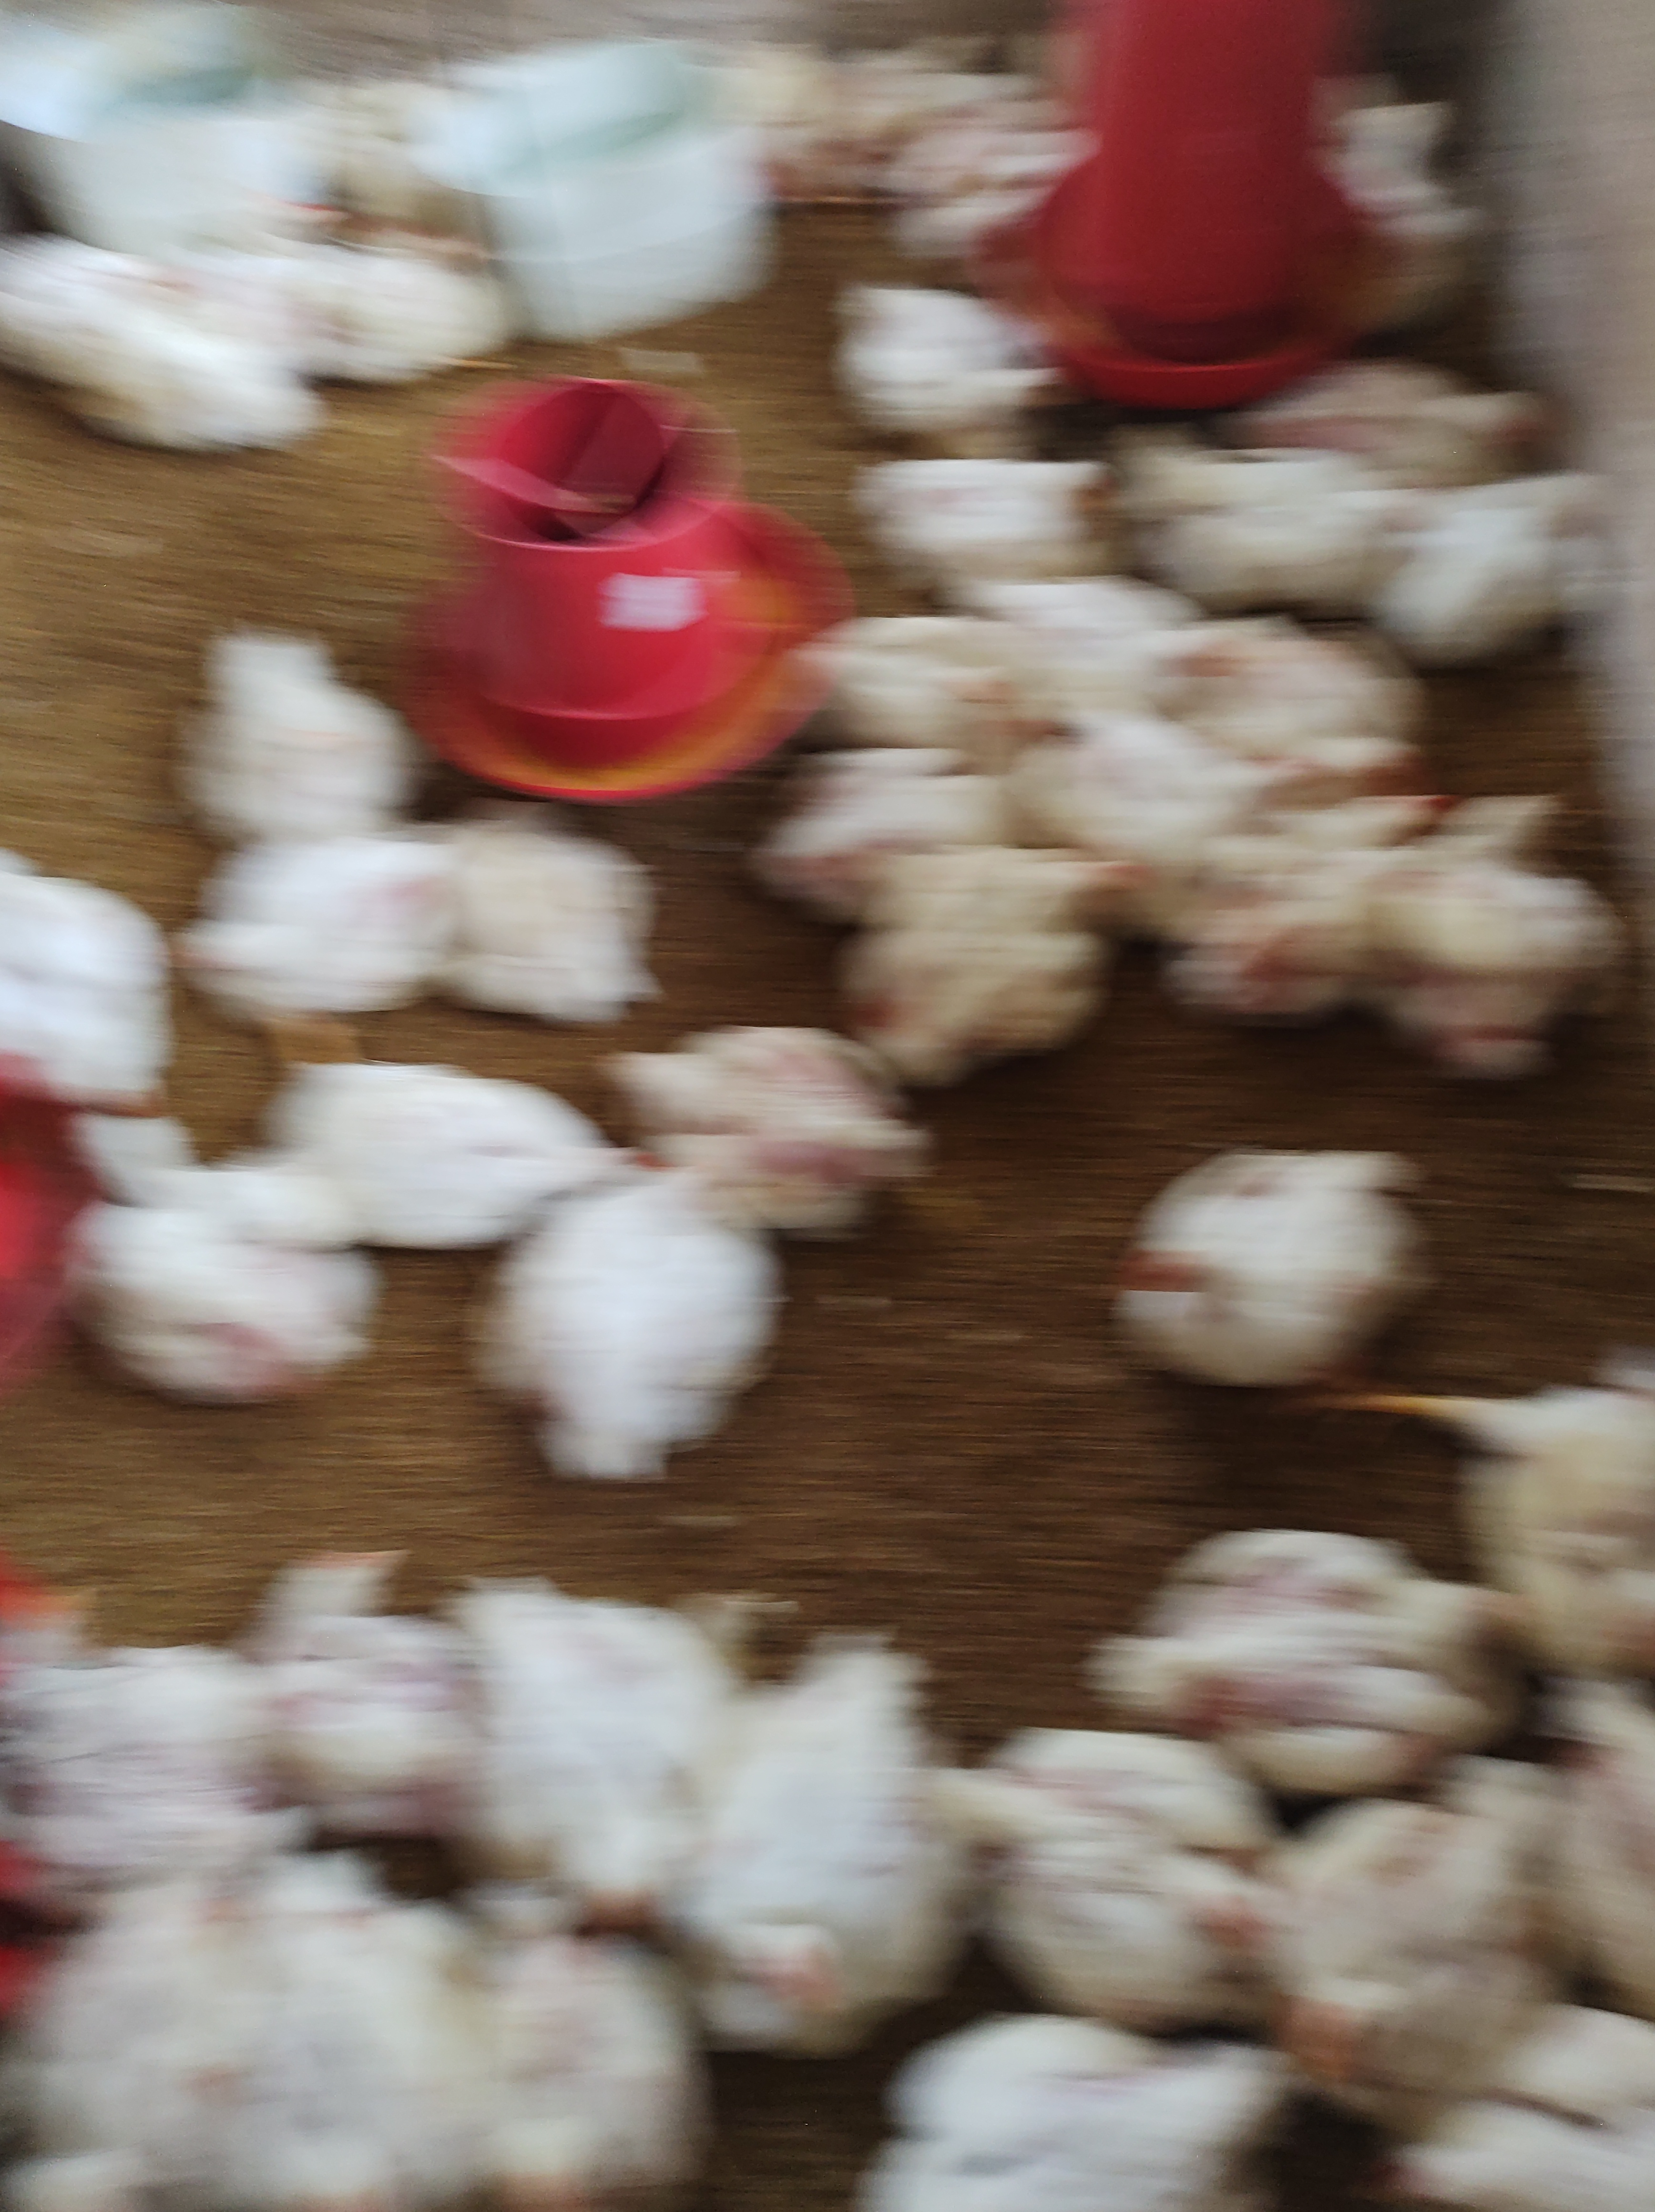Pollos: (473, 1174, 819, 1494), (920, 1949, 1337, 2212), (56, 1087, 377, 1426), (1142, 1527, 1545, 1772), (716, 1652, 961, 2040), (1267, 1814, 1598, 2097), (240, 1019, 624, 1261), (163, 190, 565, 417), (487, 1549, 723, 1930), (615, 998, 958, 1236), (1114, 1144, 1436, 1384), (996, 1736, 1274, 2009), (233, 1532, 487, 1802), (836, 840, 1109, 1075), (219, 595, 429, 829), (883, 433, 1182, 586), (847, 280, 1067, 436), (1377, 353, 1587, 473), (1318, 776, 1471, 875)
